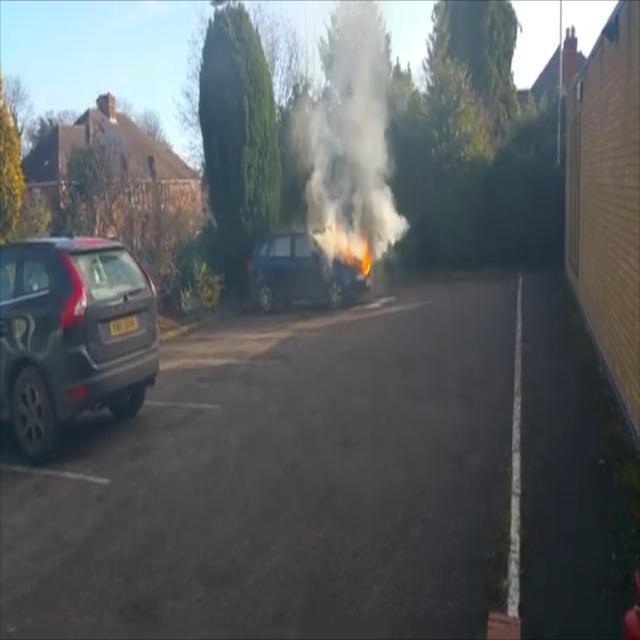fire: (321, 214, 378, 280)
